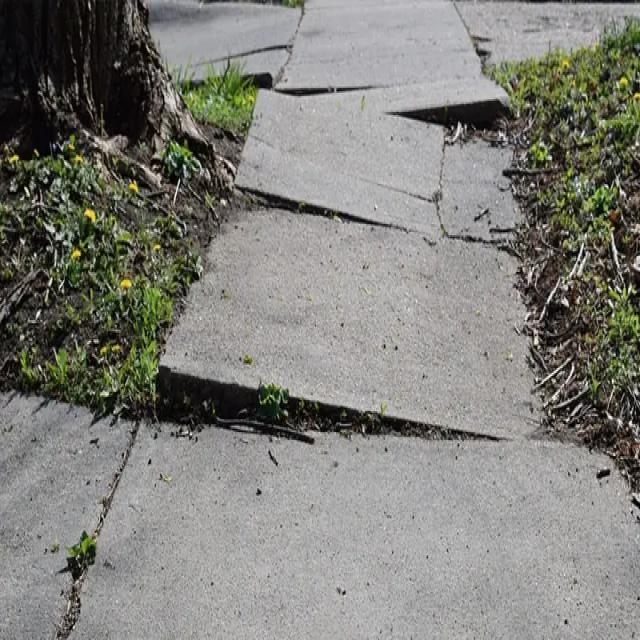hole: (142, 314, 464, 482), (389, 70, 528, 148)
